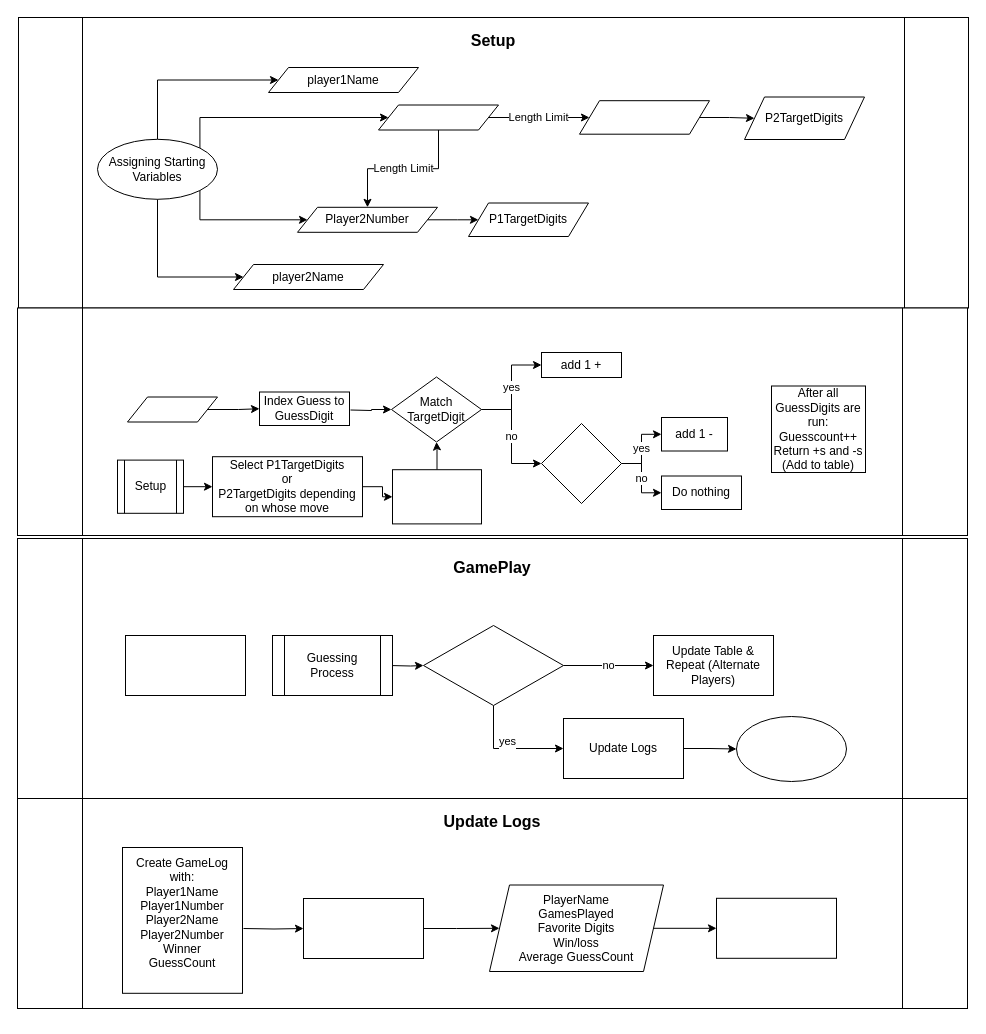
Some shapes in this 986 by 1034 pixel diagram are drawn without their labels. Each missing label, with the box of its shape:
Correct Guess (GP returns "4+"): (422, 624, 564, 706)
Create PlayerLog: (716, 897, 836, 958)
digitCount: (378, 104, 498, 130)
Guess: (126, 396, 218, 422)
Guessing Process (GP): (16, 307, 968, 536)
index TargetDigits to TargetDigit: (392, 469, 482, 524)
Match any other digit: (540, 422, 622, 504)
Player1Number: (578, 100, 710, 134)
Print table of guesses: (124, 634, 246, 696)
Read GameLog: (302, 898, 424, 958)
Win Statement: (736, 716, 846, 782)
